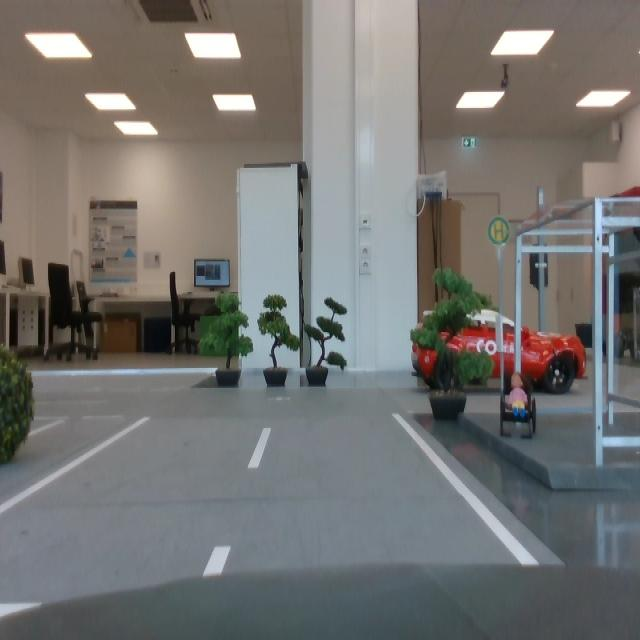car: (411, 308, 587, 394), (604, 326, 640, 361)
person: (508, 373, 529, 414)
potted plant: (409, 269, 495, 420), (198, 292, 254, 386), (1, 342, 35, 464), (257, 293, 301, 386), (303, 297, 348, 386)
traffic light: (531, 245, 550, 291)
